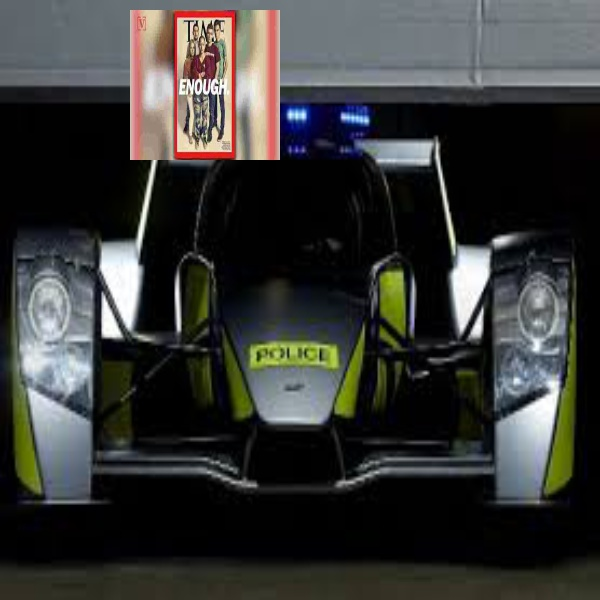time_cover: (166, 4, 240, 157)
